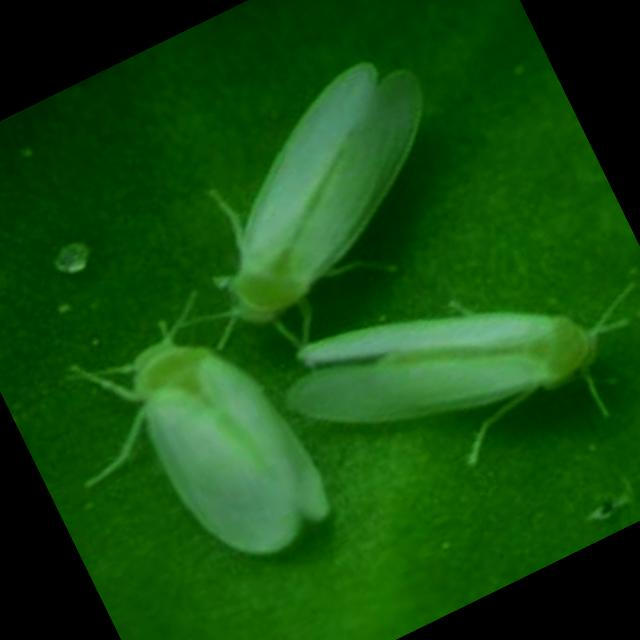Silverleaf whitefly: (249, 191, 640, 546), (16, 262, 348, 628), (141, 26, 503, 354)
